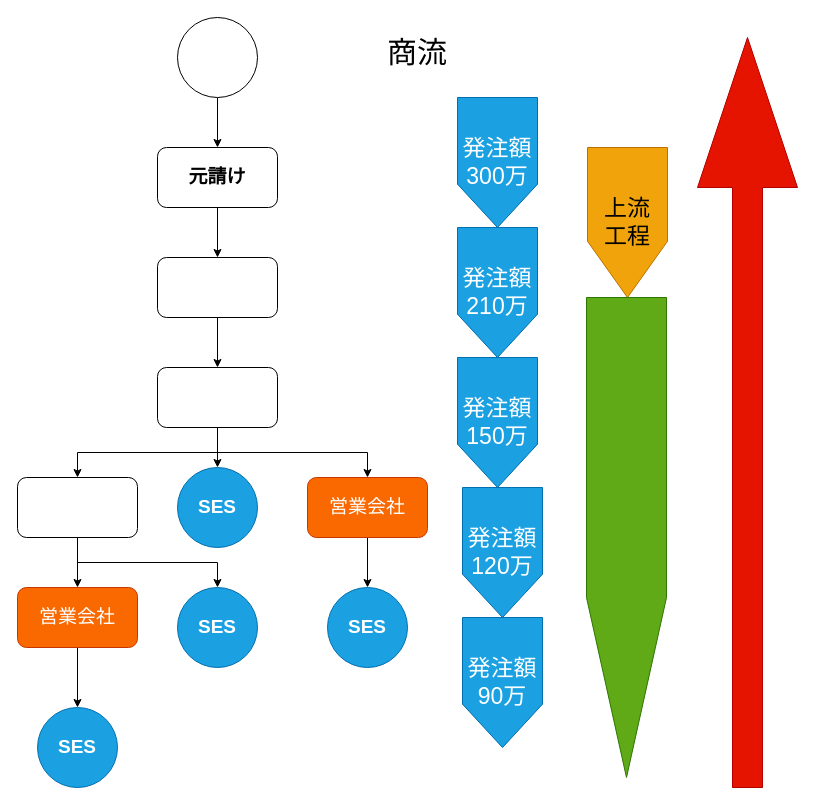
The diagram is 816 pixels wide and 805 high, and some of its shapes have lost their labels. Each missing label, with the centre of its shape:
"2次請け" belongs at [217,287].
"3次請け" belongs at [217,397].
"4次請け" belongs at [77,507].
"商流を上げると単価も上がる" belongs at [747,412].
"発注者" belongs at [217,57].
"開発" belongs at [626,537].
